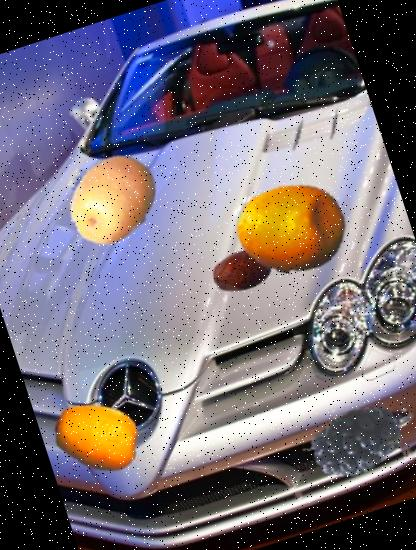Kumquats: (222, 159, 360, 296), (50, 138, 174, 260), (43, 382, 150, 490)
Mulberry: (293, 384, 416, 516)
Nut: (203, 231, 281, 309)
